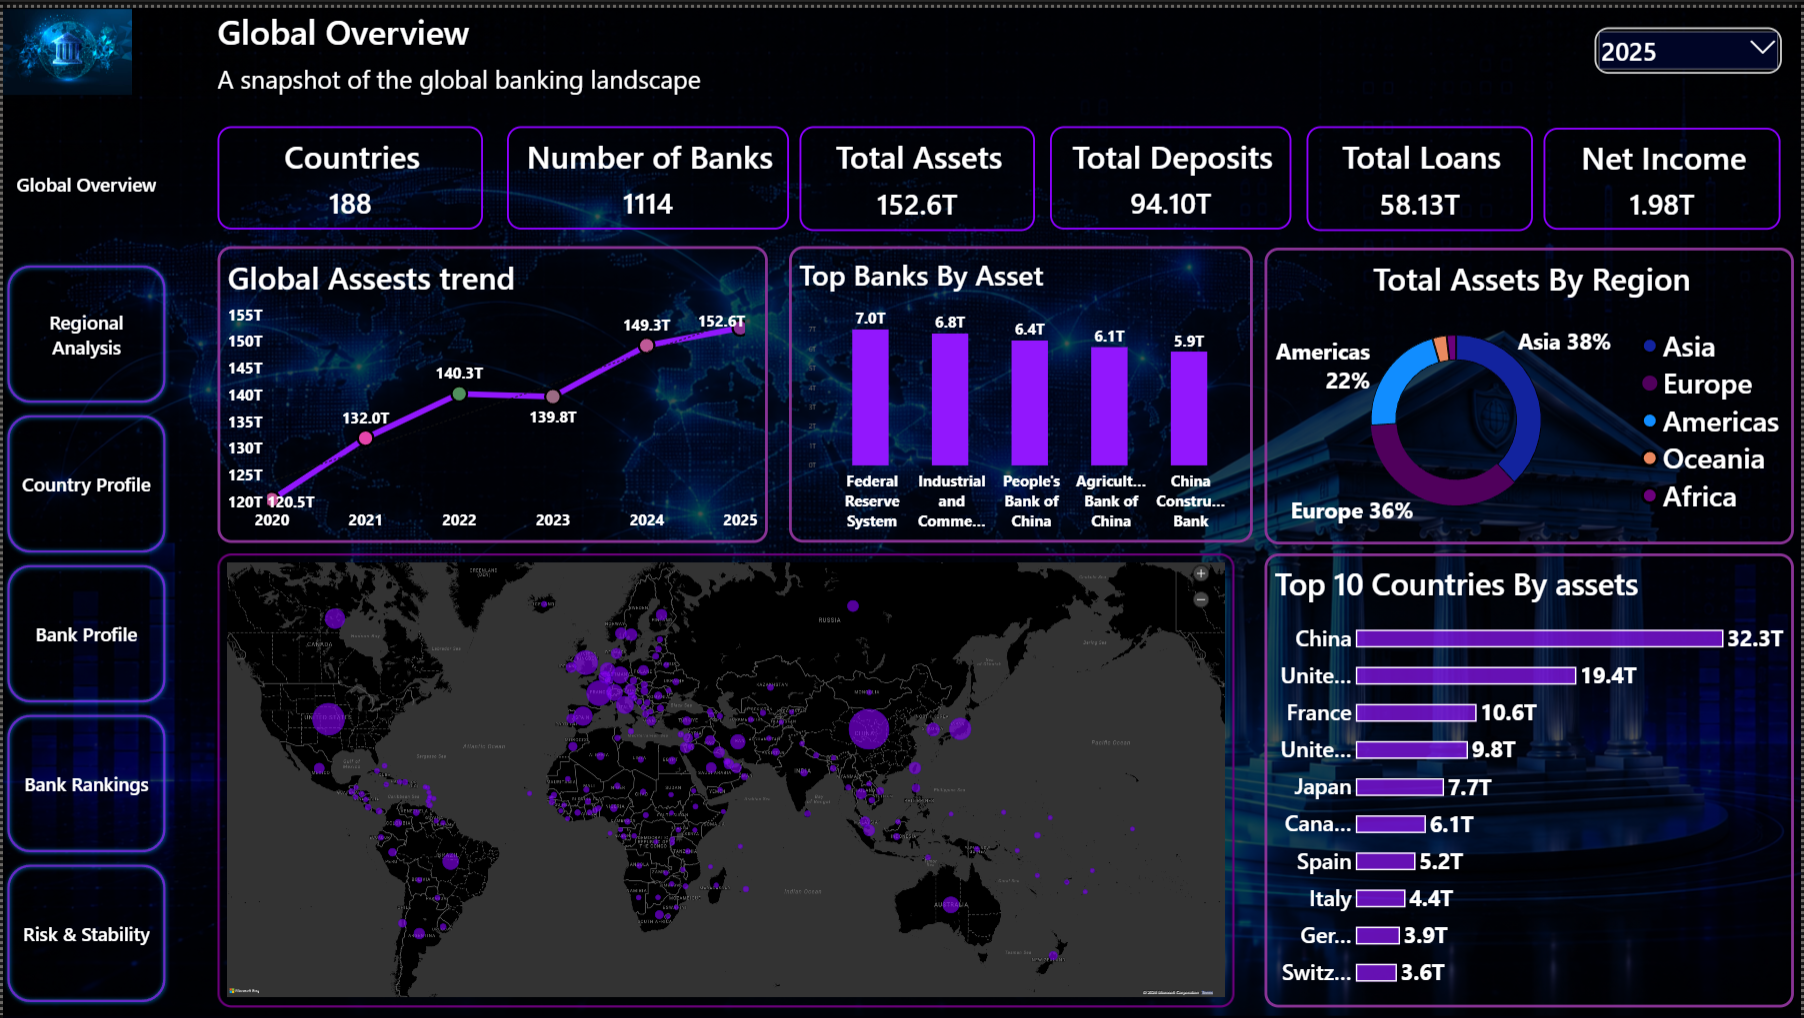

What the dashboard file says about the page in this screenshot:
{"tool":"powerbi","page":{"name":"Global Overview","canvas":[3840,2160],"ordinal":0},"visuals":[{"type":"textbox","box":[456.5,0,1533.3,186.7],"z":2000},{"type":"card","title":"Total Assets","fields":{"Values":["Sum(public gbip_bank_analysis.total_assets)"]},"box":[1700.1,262.5,502.7,214.5],"z":3000},{"type":"card","title":"Total Deposits","fields":{"Values":["Sum(public gbip_bank_analysis.total_deposits)"]},"box":[2234.7,268.9,515.5,204.9],"z":4000},{"type":"card","title":"Total Loans","fields":{"Values":["Sum(public gbip_bank_analysis.total_loans)"]},"box":[2782.2,268.9,483.4,208.1],"z":5000},{"type":"card","title":"Net Income","fields":{"Values":["Sum(public gbip_bank_analysis.net_income)"]},"box":[3288.1,256.1,505.9,217.7],"z":6000},{"type":"card","title":"Number of Banks","fields":{"Values":["CountNonNull(DimBank.bank_id)"]},"box":[1076.7,253.3,600,230],"z":7000},{"type":"donutChart","title":"Total Assets By Region","fields":{"Category":["public gbip_bank_analysis.region_name"],"Y":["Sum(public gbip_bank_analysis.total_assets)"]},"box":[2691.6,510.8,1146.7,636.7],"z":8000},{"type":"lineChart","title":"Global Assests trend","fields":{"Category":["public gbip_bank_analysis.fiscal_year"],"Y":["Sum(public gbip_bank_analysis.total_assets)"]},"box":[457.8,509.1,1175,633.9],"z":9000},{"type":"slicer","fields":{"Values":["public gbip_bank_analysis.fiscal_year"]},"box":[3396.9,41.6,400.2,99.3],"z":10000},{"type":"clusteredBarChart","title":"Top 10 Countries By assets","fields":{"Category":["public gbip_bank_analysis.country_name"],"Y":["Sum(public gbip_bank_analysis.total_assets)"]},"box":[2692.6,1165.4,1130.2,970.1],"z":11000},{"type":"map","title":"Global Banking Map","fields":{"Category":["public gbip_bank_analysis.iso3_code"],"Size":["Sum(public gbip_bank_analysis.total_assets)"]},"box":[457.8,1165.4,2170.7,995.7],"z":12000},{"type":"card","title":"Countries ","fields":{"Values":["Count(DimCountry.country_name)"]},"box":[457.8,256.1,566.7,217.7],"z":13000},{"type":"clusteredColumnChart","title":"Top Banks By Asset","fields":{"Category":["DimBank.bank_name"],"Y":["Bank_count.Bank Total Assets"]},"box":[1676.7,510,990,633.3],"z":14000},{"type":"pageNavigator","box":[0,220.9,356.7,1913.3],"z":15000},{"type":"image","box":[0,0,275.3,188.4],"z":15001}]}

Visuals, with their boxes in screenshot pixels (x1, y1, x2, y2), scaled from the page's 3840x2160 canvas onto the 1804x1018 screenshot:
textbox: <bbox>214, 0, 935, 88</bbox>
"Total Assets" card: <bbox>799, 124, 1035, 225</bbox>
"Total Deposits" card: <bbox>1050, 127, 1292, 223</bbox>
"Total Loans" card: <bbox>1307, 127, 1534, 225</bbox>
"Net Income" card: <bbox>1545, 121, 1782, 223</bbox>
"Number of Banks" card: <bbox>506, 119, 788, 228</bbox>
"Total Assets By Region" donutChart: <bbox>1264, 241, 1803, 541</bbox>
"Global Assests trend" lineChart: <bbox>215, 240, 767, 539</bbox>
slicer - public gbip_bank_analysis.fiscal_year: <bbox>1596, 20, 1784, 66</bbox>
"Top 10 Countries By assets" clusteredBarChart: <bbox>1265, 549, 1796, 1006</bbox>
"Global Banking Map" map: <bbox>215, 549, 1235, 1017</bbox>
"Countries " card: <bbox>215, 121, 481, 223</bbox>
"Top Banks By Asset" clusteredColumnChart: <bbox>788, 240, 1253, 539</bbox>
pageNavigator: <bbox>0, 104, 168, 1006</bbox>
image: <bbox>0, 0, 129, 89</bbox>
